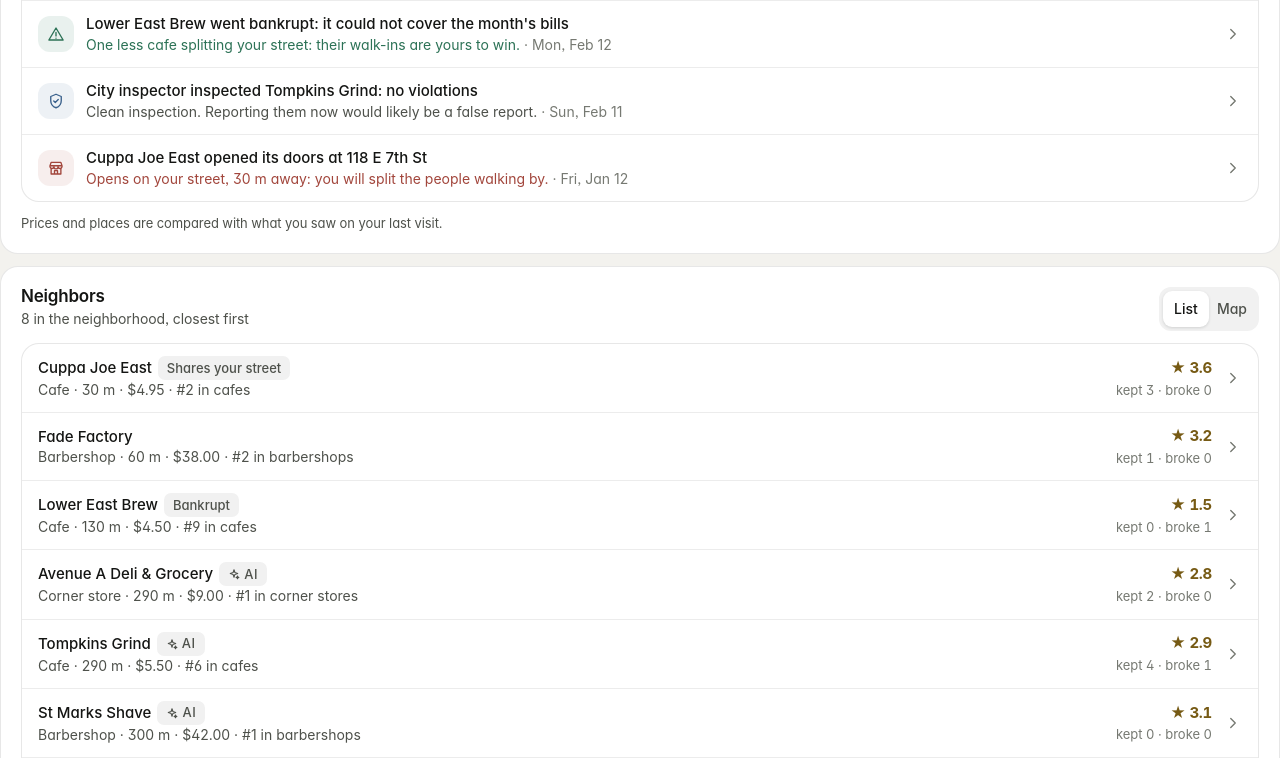
Scenario: Network tab: neighbors › shows open data and partners in the profile
(page scrolled)
Click the button "Cuppa Joe East".
click(95, 368)  # box [22,344,1258,412]
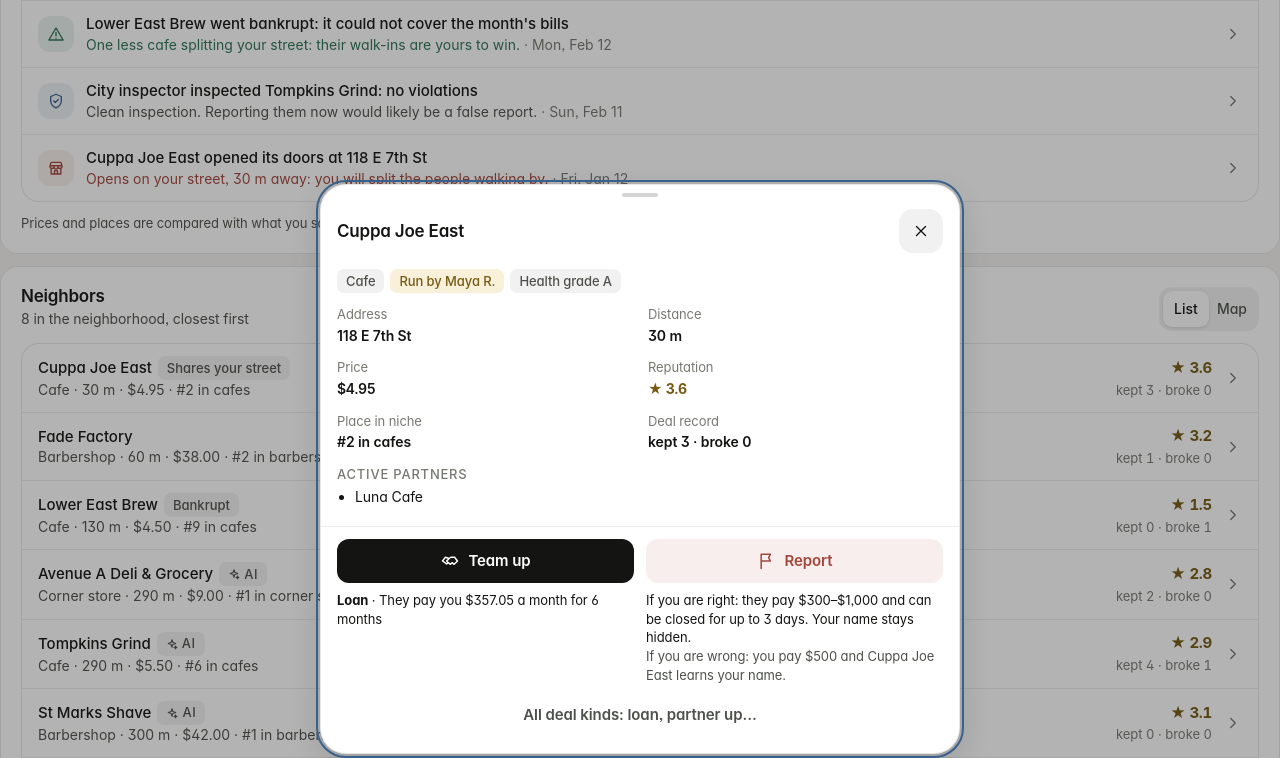
Expected: the dialog "Cuppa Joe East" shows "Run by Maya R.", [320,184,960,754]
Expected: the dialog "Cuppa Joe East" shows "Health grade A", [320,184,960,754]
Expected: the dialog "Cuppa Joe East" shows "kept 3 · broke 0", [648,433,751,450]
